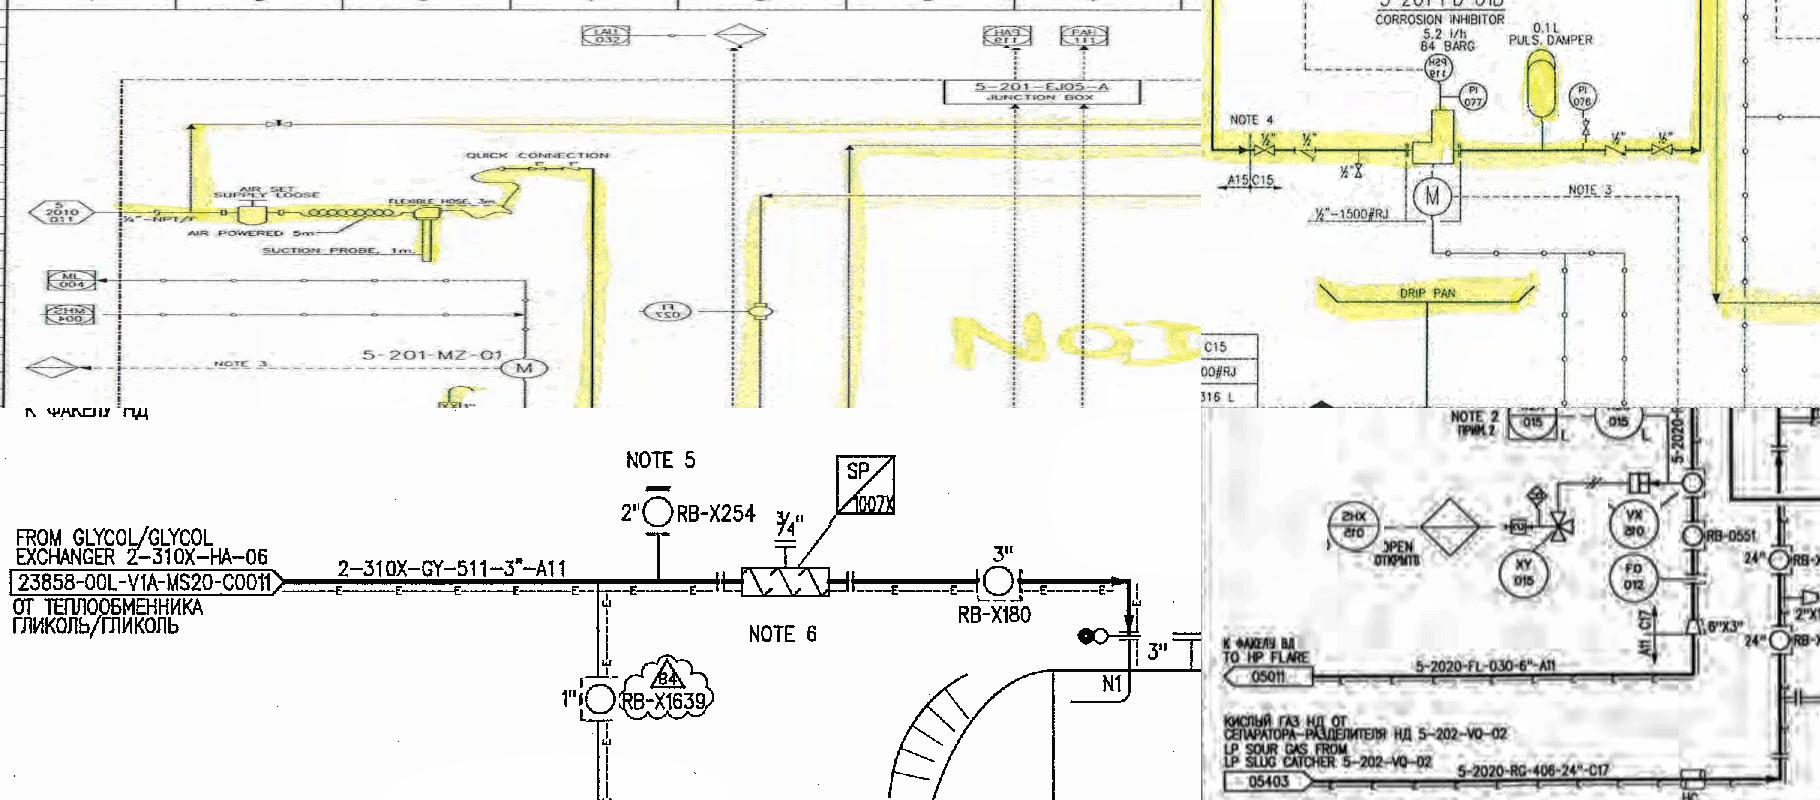3 WAY GENERAL VALVE: (1548, 510, 1579, 545)
CONCENTRIC REDUCER: (1683, 613, 1709, 637), (1796, 586, 1820, 610)
DCS ACCESSIBLE: (1505, 408, 1561, 444), (576, 22, 641, 49), (39, 301, 103, 327), (39, 266, 103, 291), (980, 23, 1046, 48), (1057, 23, 1114, 49)
DRUM AND PRESSURE VESSEL: (1525, 46, 1561, 122)
DUPLEX RECEPTACLE: (1676, 764, 1711, 797)
END FLANGED: (768, 531, 804, 561), (1680, 567, 1712, 589), (1765, 440, 1791, 454)
FIELD INSTRUMENT: (1609, 497, 1661, 554), (1498, 545, 1551, 600), (1610, 555, 1662, 604), (1409, 170, 1459, 219), (976, 561, 1023, 599), (1595, 408, 1647, 441), (640, 490, 678, 535), (579, 678, 619, 721), (640, 298, 700, 323), (497, 356, 556, 381), (1567, 79, 1599, 115), (1763, 541, 1796, 577), (1459, 80, 1492, 113), (1425, 53, 1456, 85), (1678, 519, 1705, 554), (1676, 464, 1704, 497), (1764, 625, 1793, 654)
GATE VALVE: (1250, 143, 1281, 161), (1349, 157, 1368, 186), (1652, 142, 1676, 159), (1577, 118, 1593, 145)
HARDWIRED INTERLOCK FIELD: (1528, 483, 1551, 510)
HARDWIRED INTERLOCK PRIMARY.: (1417, 495, 1486, 561), (22, 355, 86, 381), (708, 23, 770, 49)
NO ACCESS INDICATOR: (19, 197, 106, 225)
PANEL INSTRUMENT: (1327, 500, 1384, 552)
REVISION TRIANGLE: (651, 653, 686, 693)
SPECIAL PIPING ITEM: (830, 451, 907, 525)
SPECTACLE BLIND OPEN: (1072, 621, 1147, 653)
SPEED FLOW METER: (1508, 516, 1534, 534)
